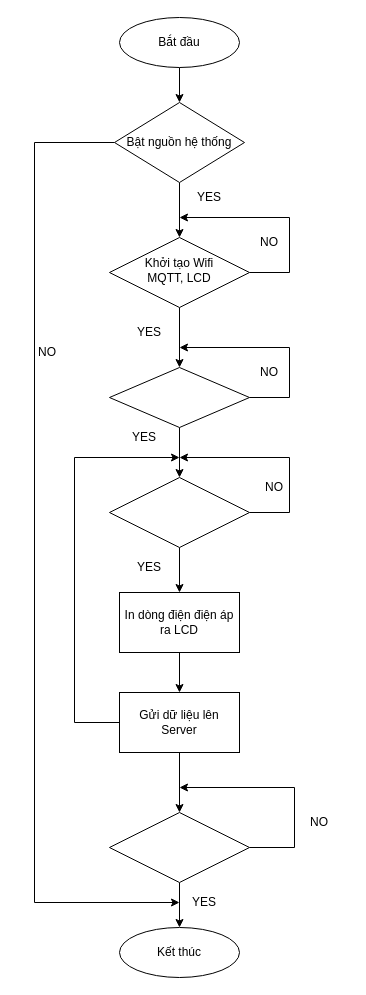
This 366x995 diagram has some shape labels left out. Here are the shapes that lost their labels. From the top down, the centre of each, then its label:
At point (179, 397): "Khởi động động cơ".
At point (179, 512): "Đọc dữ liệu dòng điện từ cảm biến".
At point (179, 847): "Có sự cố về hệ thống".
